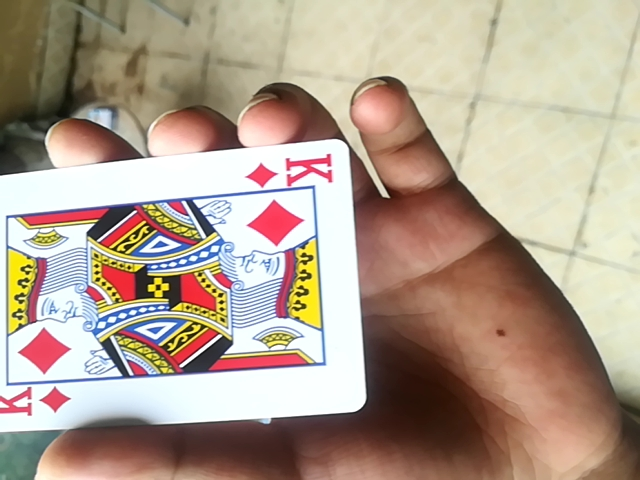fk k: (0, 132, 370, 441)
